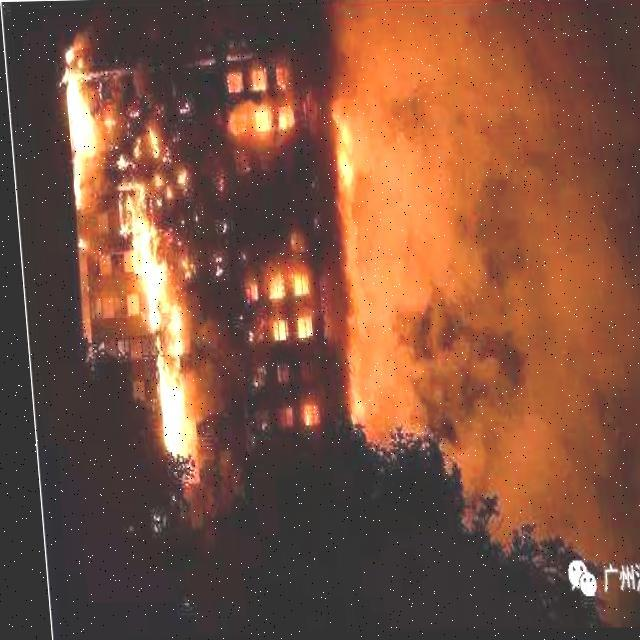Fire: (222, 61, 370, 434), (108, 110, 218, 468), (56, 39, 105, 216)
